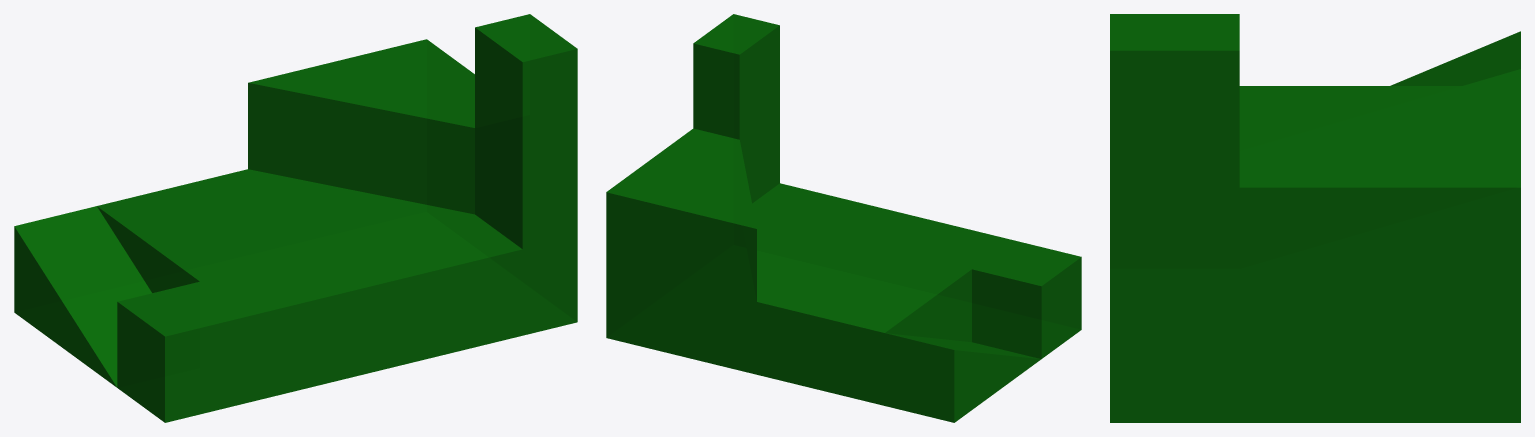
The picture shows the model from 3 angles, left to right: view 1: azimuth 30°, elevation 25°; view 2: azimuth 150°, elevation 25°; view 3: azimuth 270°, elevation 25°; orthographic projection. The views are drawn at different scales.
Parts seen in each view (by area): view 1: SketchUp; view 2: SketchUp; view 3: SketchUp.
Part boxes in pixels (x1,y1,x2,y2): SketchUp: (14,14,577,422); SketchUp: (606,14,1081,422); SketchUp: (1110,14,1520,422).
Size of the model in its own units: 591 by 374 by 374.
